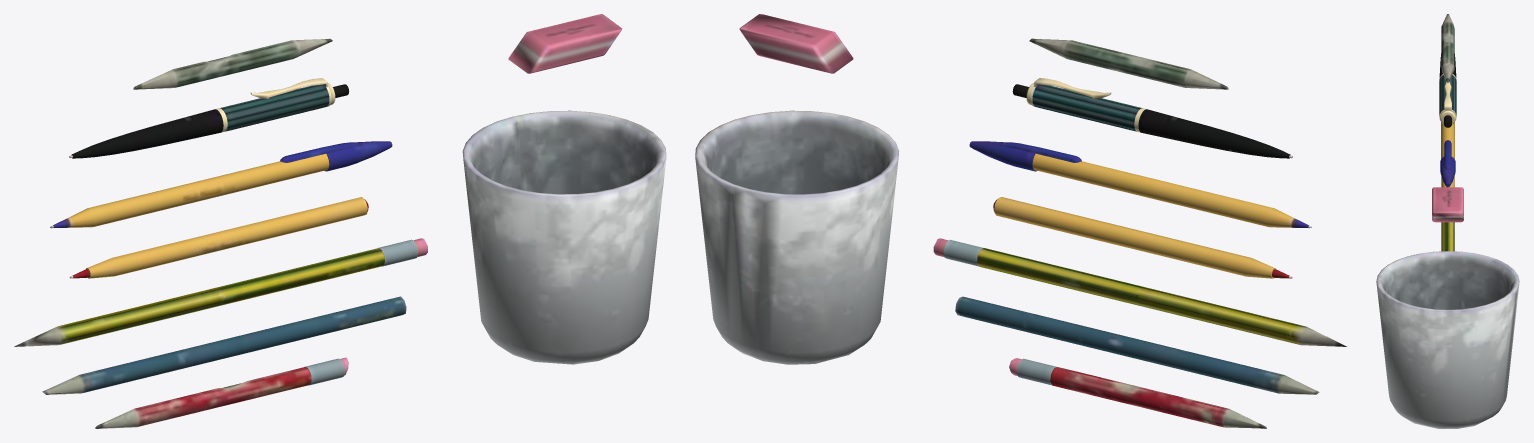
File: stationery-set.glb
3 views of the same model, side by side, from view 1: azimuth 30°, elevation 25°; view 2: azimuth 150°, elevation 25°; view 3: azimuth 270°, elevation 25° (orthographic). The views are drawn at different scales.
Visible parts, largest first — view 1: stationery_supplies_pen_red; view 2: stationery_supplies_pen_red; view 3: stationery_supplies_pen_red.
Boxes of the visible parts, x1=… form: stationery_supplies_pen_red: x1=14, y1=14, x2=666, y2=428; stationery_supplies_pen_red: x1=695, y1=14, x2=1346, y2=428; stationery_supplies_pen_red: x1=1376, y1=14, x2=1519, y2=428.
Bounding box in the file's own units: 0.3018 × 0.1644 × 0.0836.
1 material, 1 textured.
